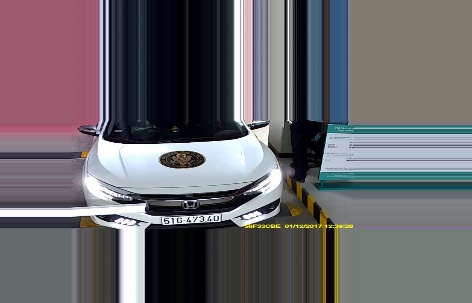plate: (158, 214, 220, 226)
